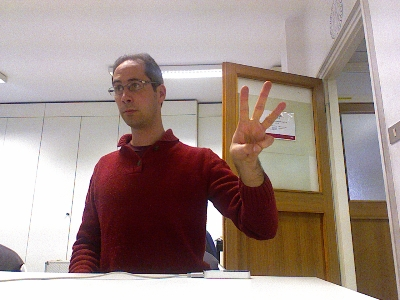三分: (226, 78, 287, 166)
